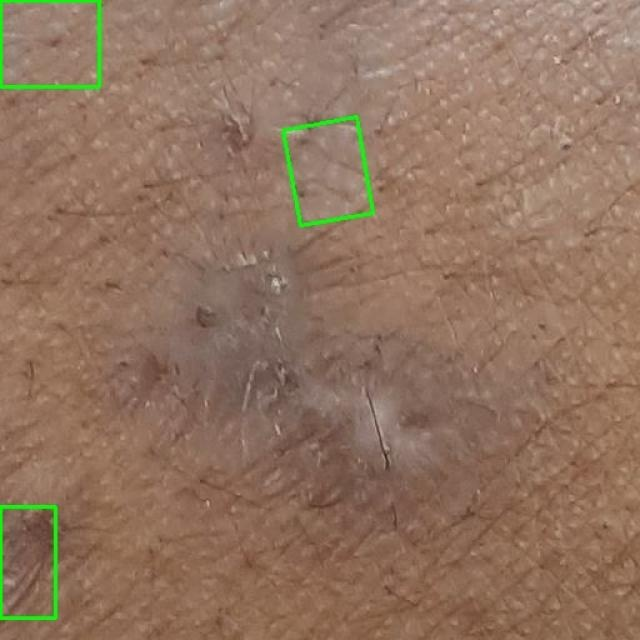Atopic Dermatitis: (284, 117, 373, 226), (0, 0, 99, 86), (0, 506, 55, 618)
